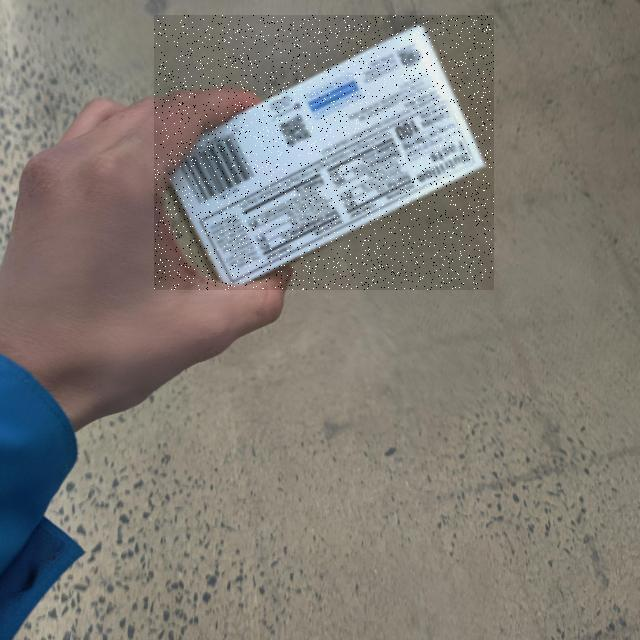Butter: (155, 15, 495, 290)
